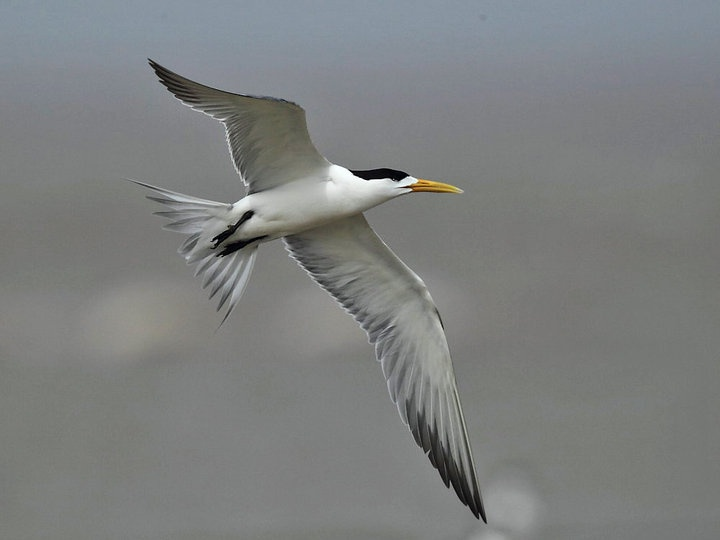bird: (135, 56, 499, 531)
